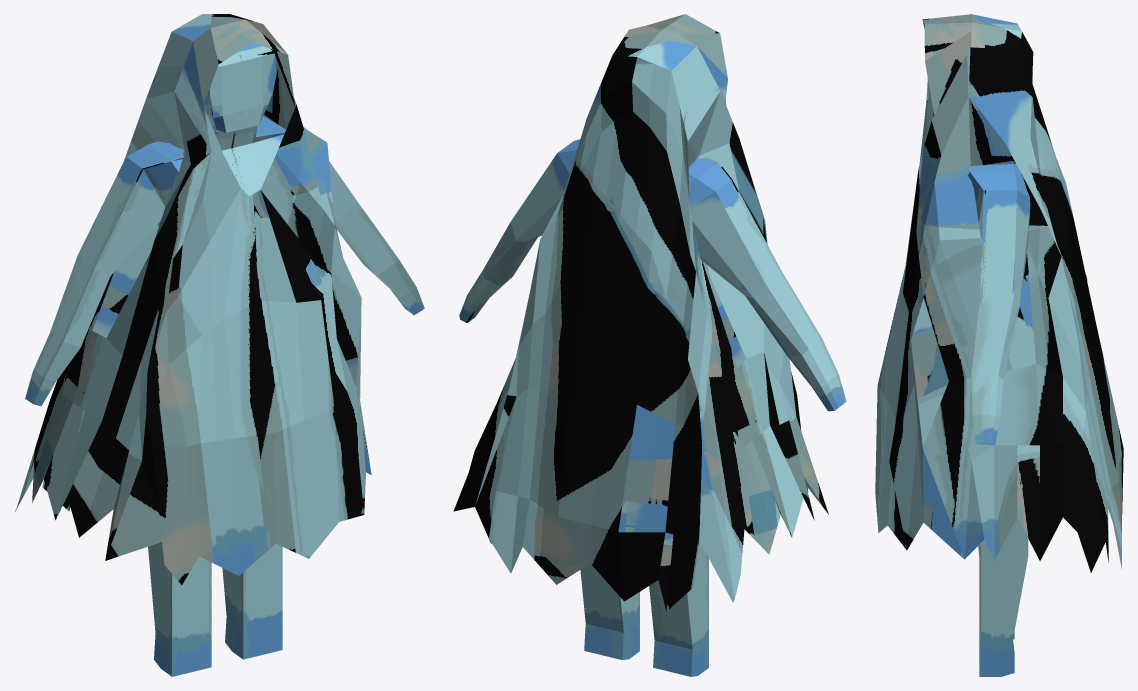
File: ghost.gltf
The picture shows the model from 3 angles, left to right: view 1: azimuth 30°, elevation 25°; view 2: azimuth 150°, elevation 25°; view 3: azimuth 270°, elevation 25°; orthographic projection. The views are drawn at different scales.
Visible parts, largest first — view 1: cape, ghost, arms; view 2: cape, arms, ghost; view 3: cape, arms, ghost.
Part boxes in pixels (x1,y1,x2,y2): cape: (14, 14, 371, 584); ghost: (126, 43, 306, 676); arms: (25, 157, 424, 406); cape: (453, 14, 828, 611); arms: (459, 153, 846, 411); ghost: (557, 139, 731, 676); cape: (875, 14, 1123, 572); arms: (971, 190, 1030, 445); ghost: (967, 163, 1029, 676).
Size of the model in its own units: 1.88 by 2.95 by 1.06.
Materials: 2 (2 with a texture image).
